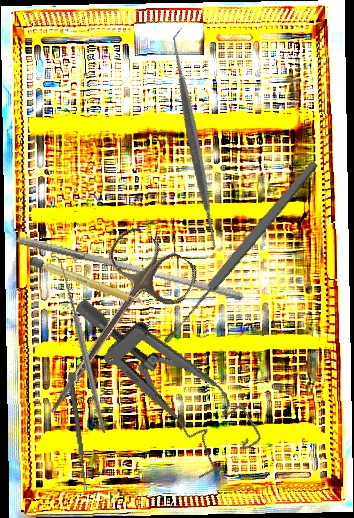Hook Surgical: (8, 254, 148, 434)
Iris Scissors: (18, 221, 203, 440)
Pusher: (13, 235, 246, 302)
Scalpel Handle: (29, 256, 147, 309)
Spatula Surgical: (78, 26, 311, 259)
Speculum: (71, 257, 267, 493)
Surgical Spoon: (159, 158, 321, 347), (66, 373, 90, 493)
